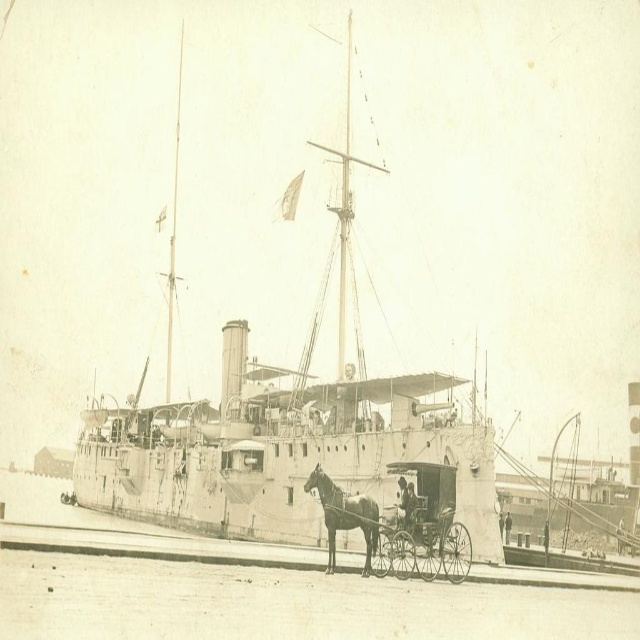Horse: (303, 461, 380, 578)
